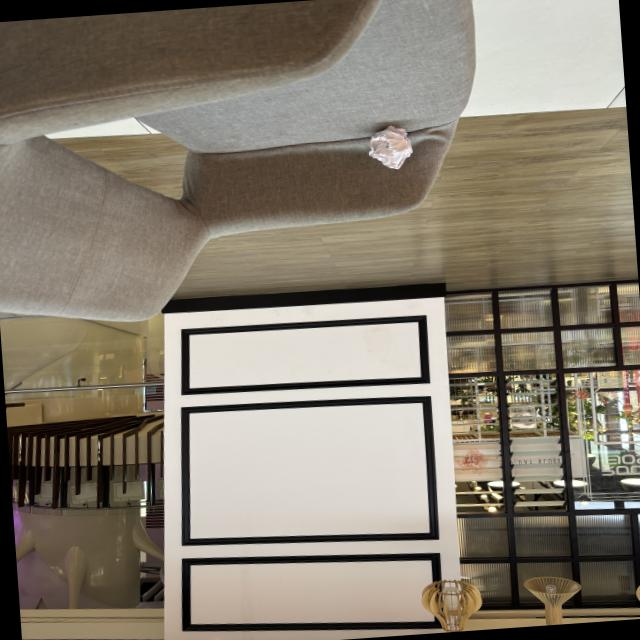crumpled_paper: (364, 120, 414, 174)
